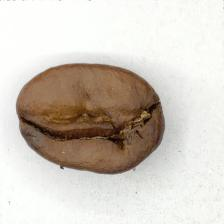NG: (23, 77, 141, 159)
